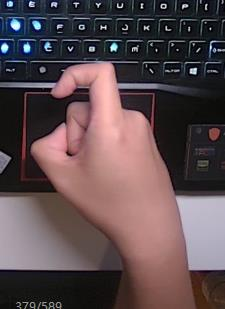anticlockwise: (25, 60, 187, 250)
